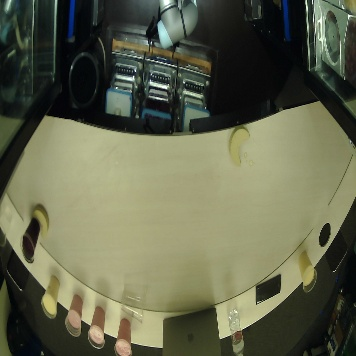empty_cup: (119, 294, 144, 324)
full_cup: (19, 217, 42, 264), (298, 250, 318, 293), (87, 305, 106, 349), (65, 293, 84, 337), (41, 274, 60, 318), (113, 317, 132, 356)
puck: (230, 128, 250, 169), (31, 204, 48, 238)
